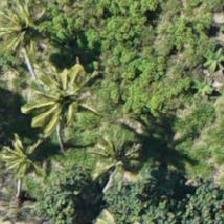coconut_tree: (70, 111, 160, 201), (4, 51, 94, 141), (0, 103, 74, 193), (0, 0, 69, 69)
